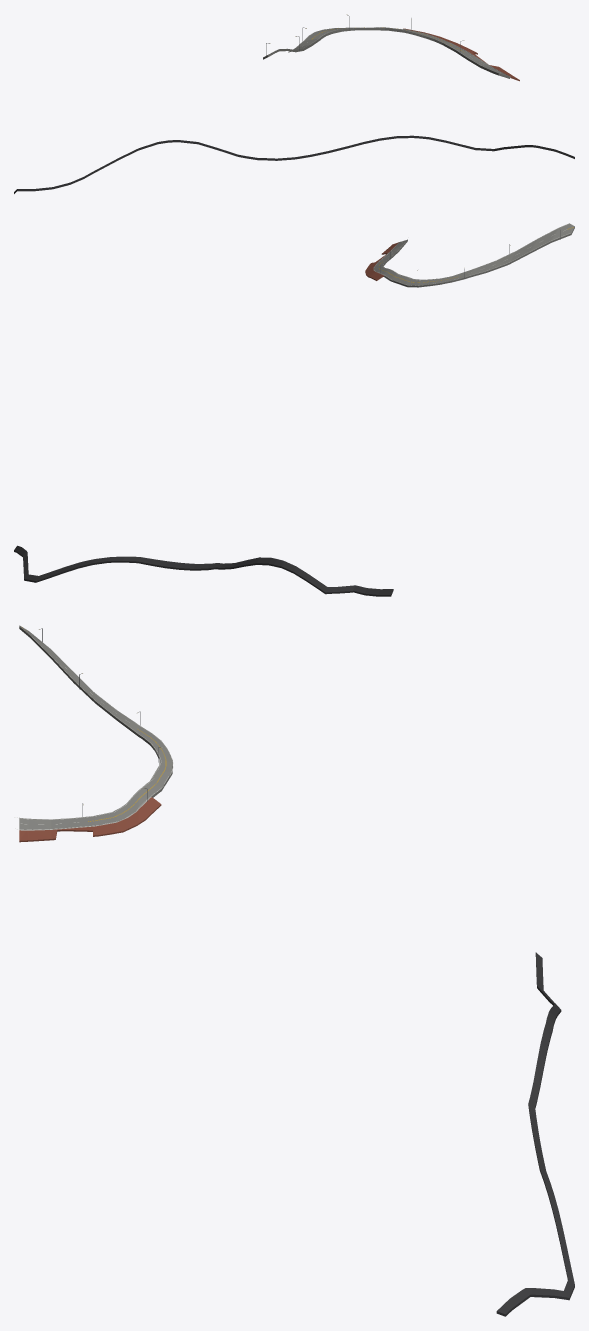
The picture shows the model from 3 angles, top to bottom: view 1: azimuth 30°, elevation 25°; view 2: azimuth 150°, elevation 25°; view 3: azimuth 270°, elevation 25°; orthographic projection. The views are drawn at different scales.
Bounding box in the file's own units: 293 × 217 × 257.
